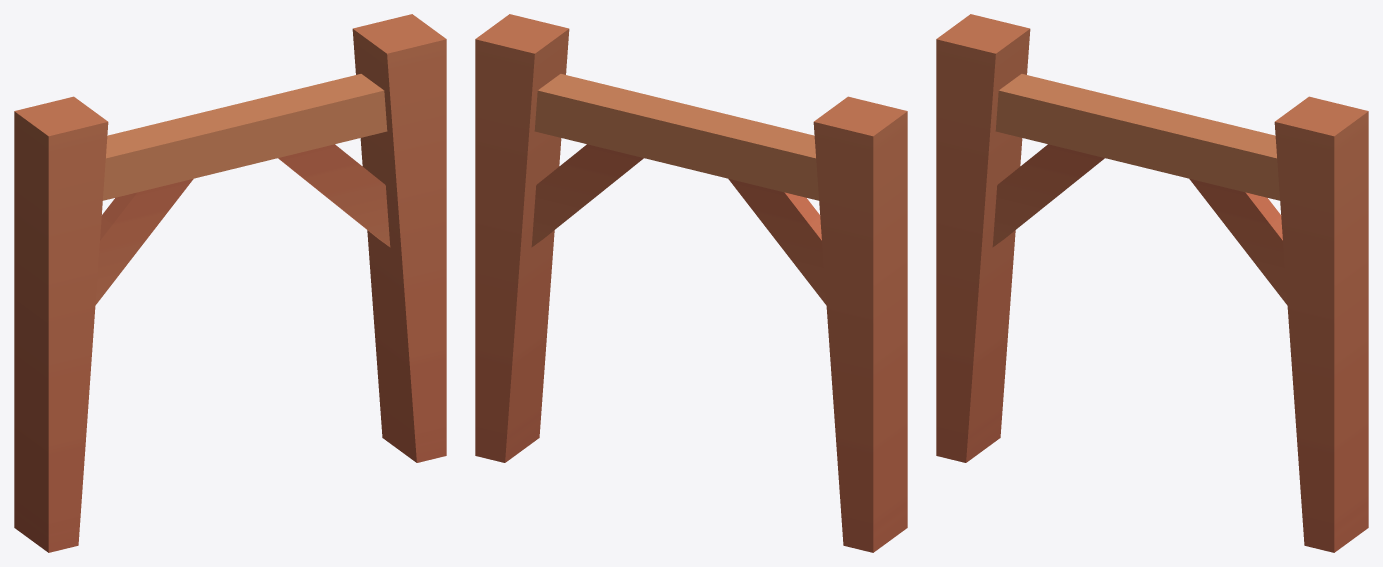
Rendered from wood-support.glb.
3 renders of one model, left to right at view 1: azimuth 30°, elevation 25°; view 2: azimuth 150°, elevation 25°; view 3: azimuth 330°, elevation 25°, orthographic.
Parts seen in each view (by area): view 1: wood-support; view 2: wood-support; view 3: wood-support.
Boxes of the visible parts, <box> form: wood-support: <box>14,14,446,552</box>; wood-support: <box>475,14,907,552</box>; wood-support: <box>936,14,1368,552</box>.
Bounding box in the file's own units: 1 × 1 × 0.15.
1 material, 1 textured.
